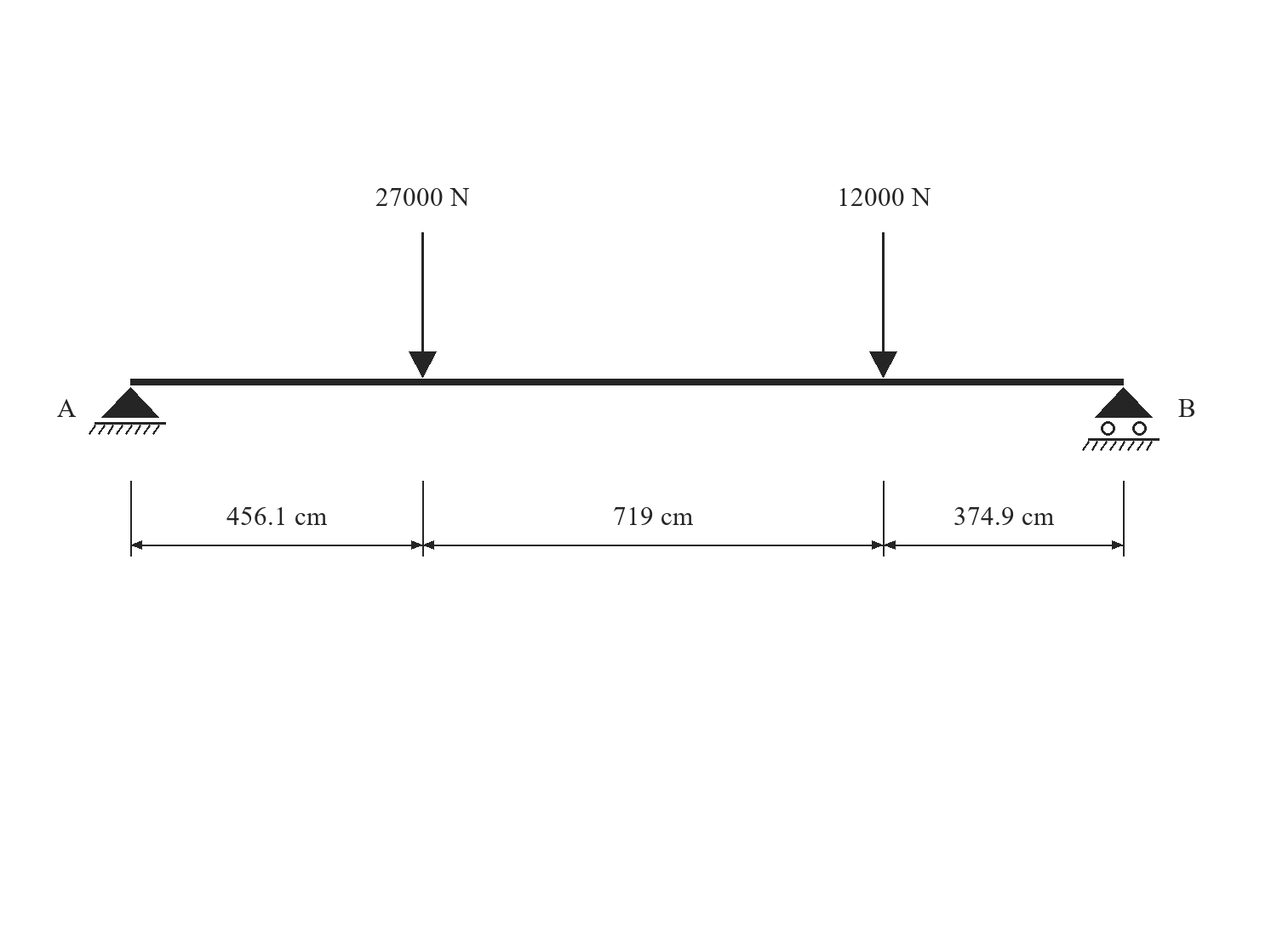pin_support: (89, 387, 166, 435)
point_load: (409, 232, 437, 378), (869, 232, 897, 378)
roller_support: (1082, 387, 1160, 451)
